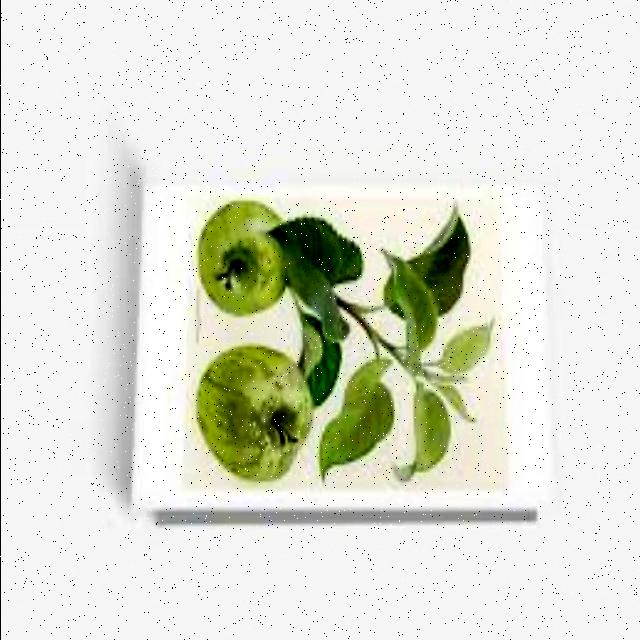BLOTCH: (185, 333, 317, 501), (192, 168, 310, 326)
